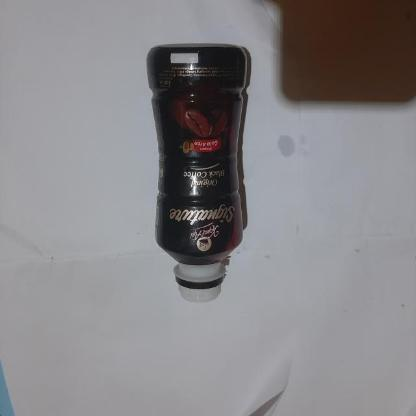Plastic Bottle: (119, 19, 274, 302)
